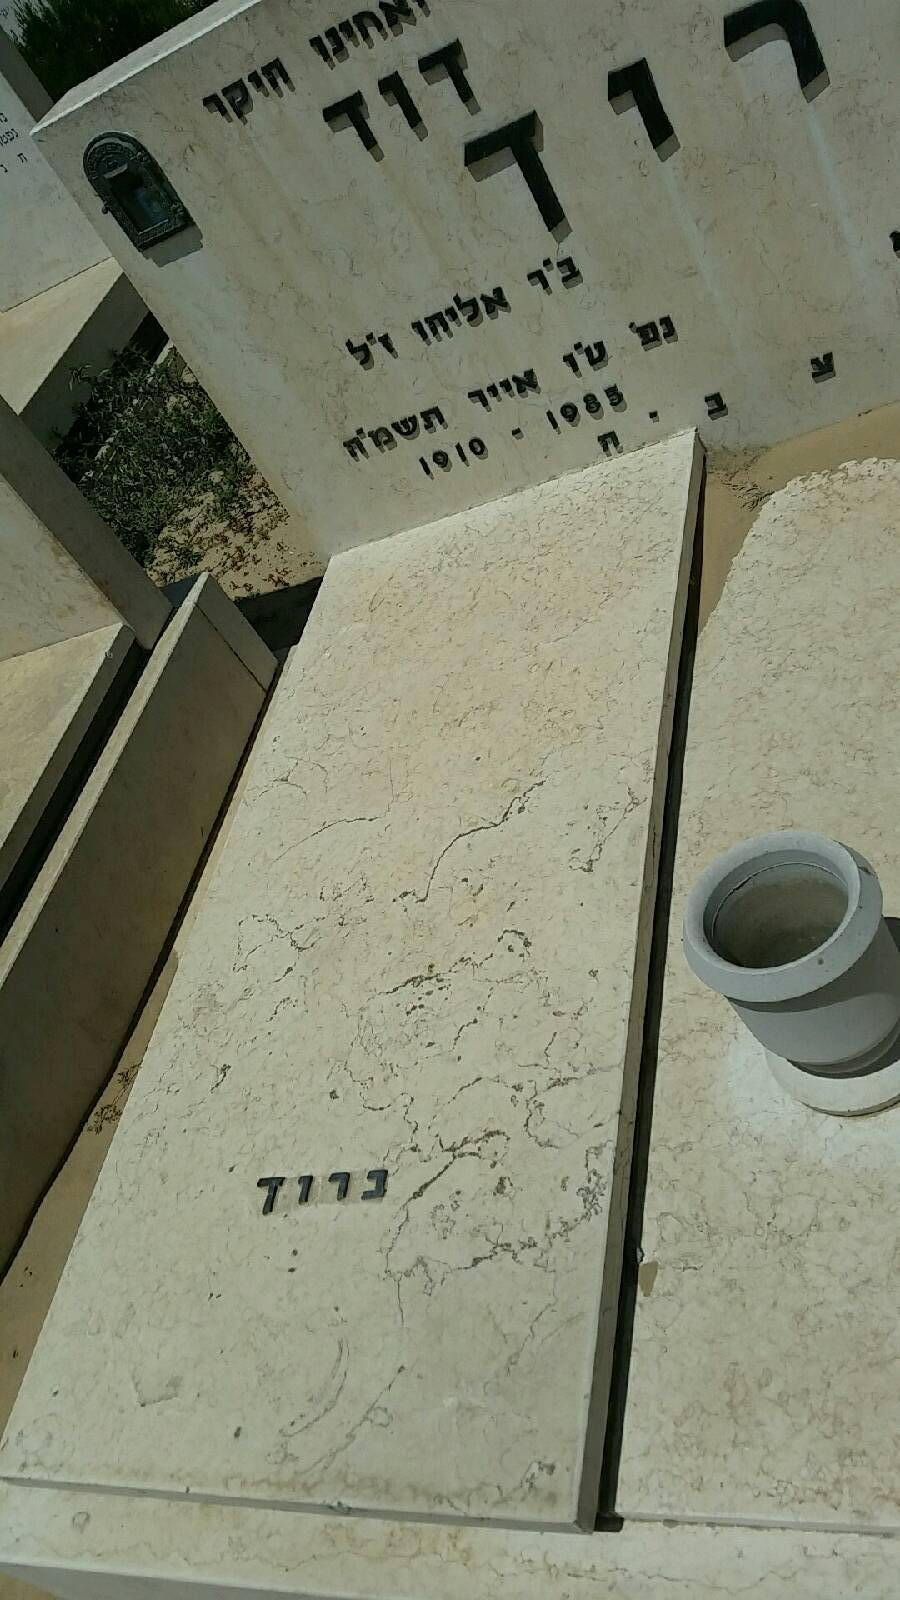vault: (15, 10, 734, 1554)
